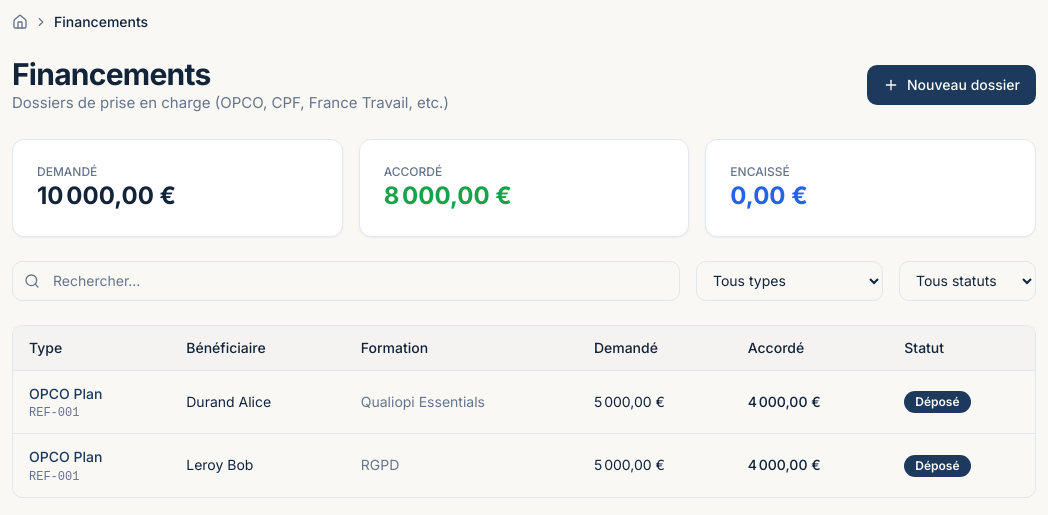
Test: FundingListPage › filters dossiers by beneficiary name
Type "leroy" into the field with placeholder "Rechercher...".
click(346, 280); type("leroy")  # box [12, 260, 680, 300]
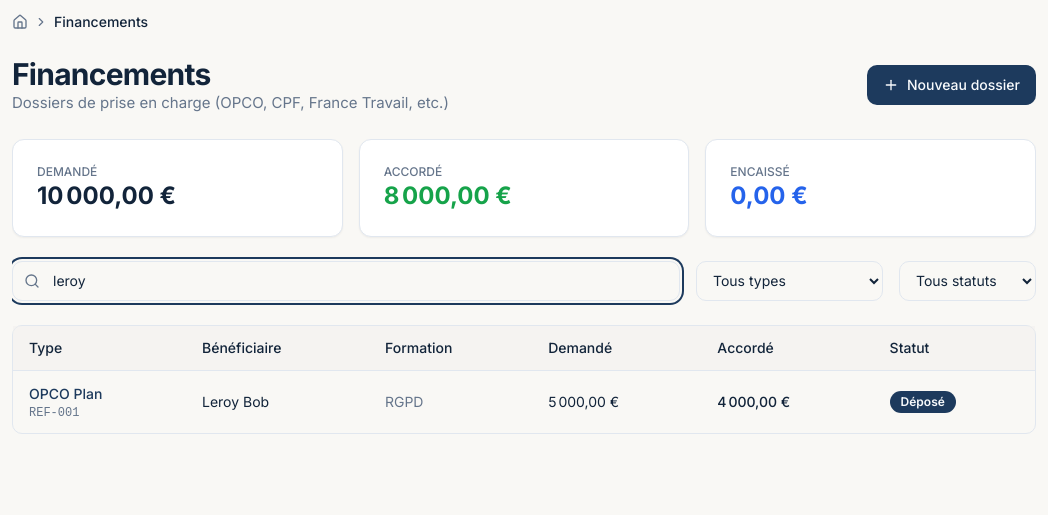
Expected: the text "Leroy Bob" is shown, [186, 370, 369, 433]
Expected: the text "Durand Alice" is gone
